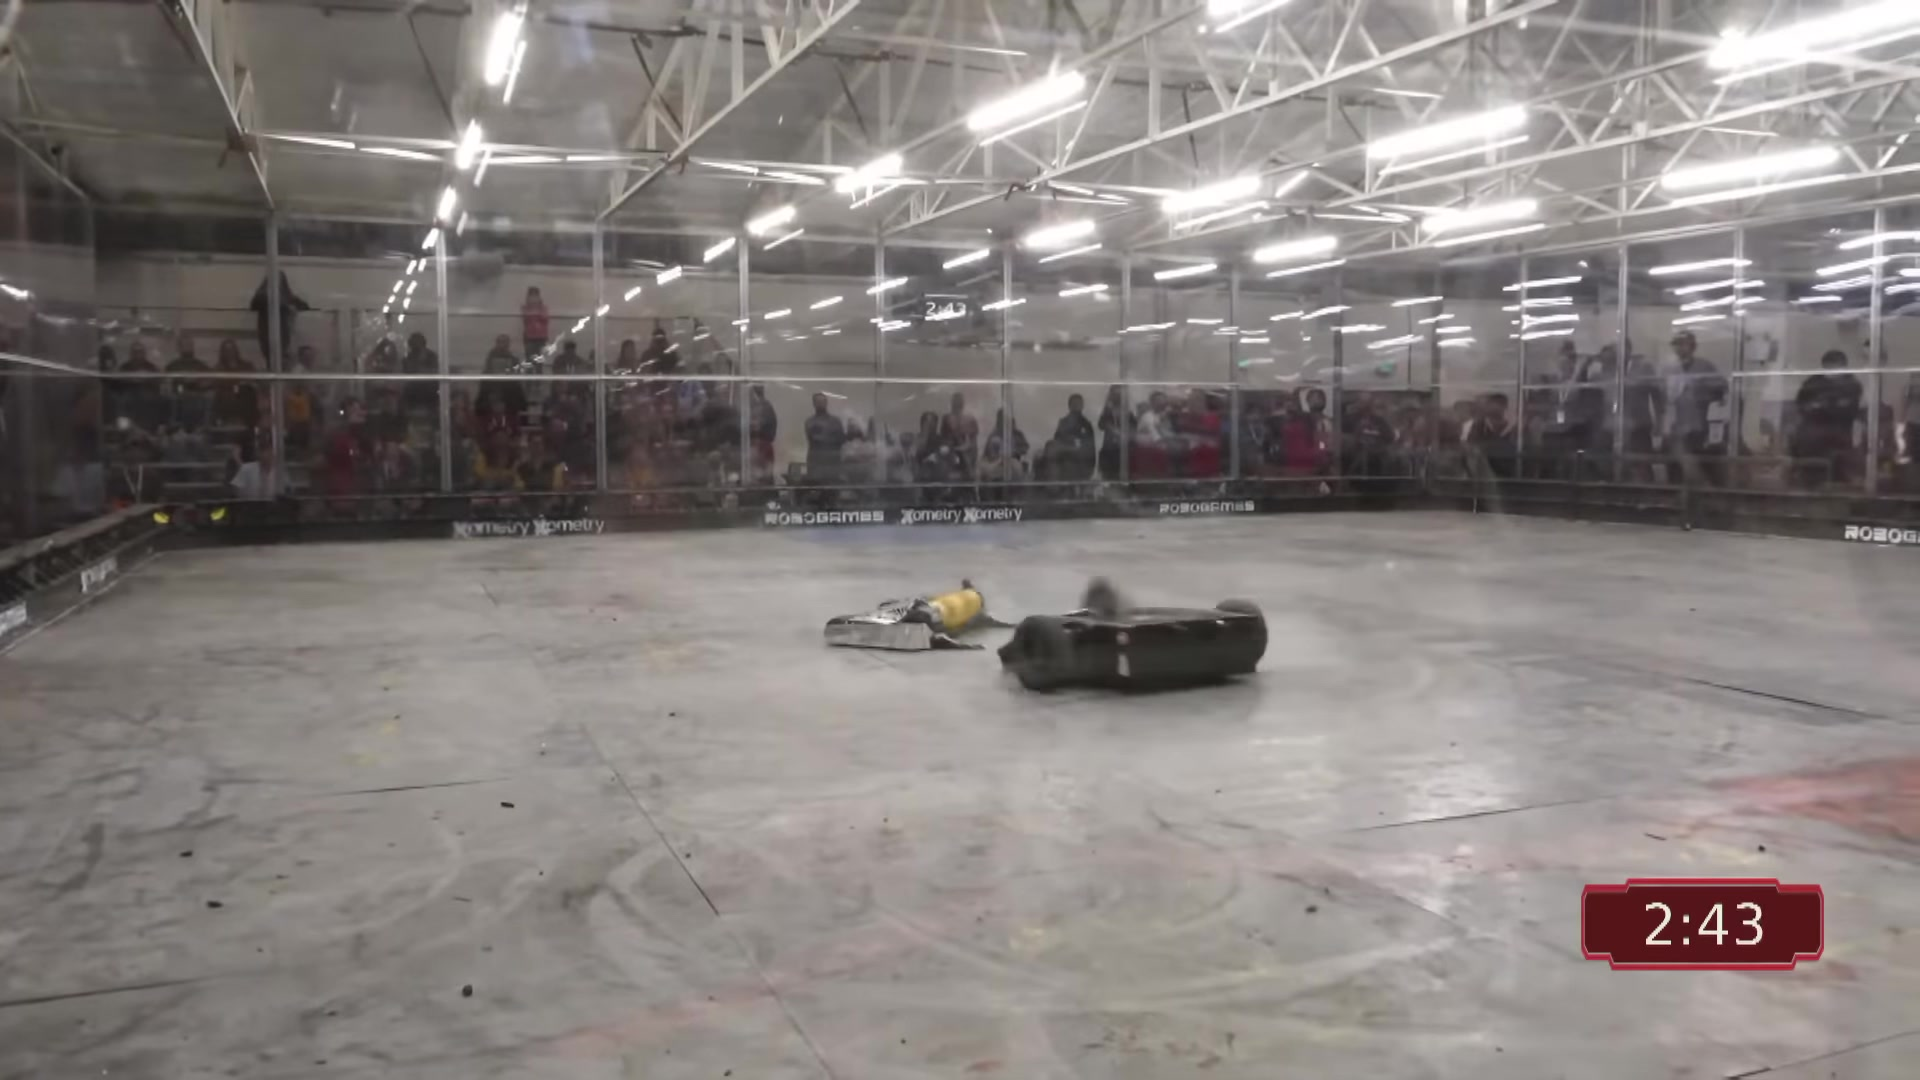combatbot: (1001, 578, 1269, 687), (824, 580, 1006, 650)
